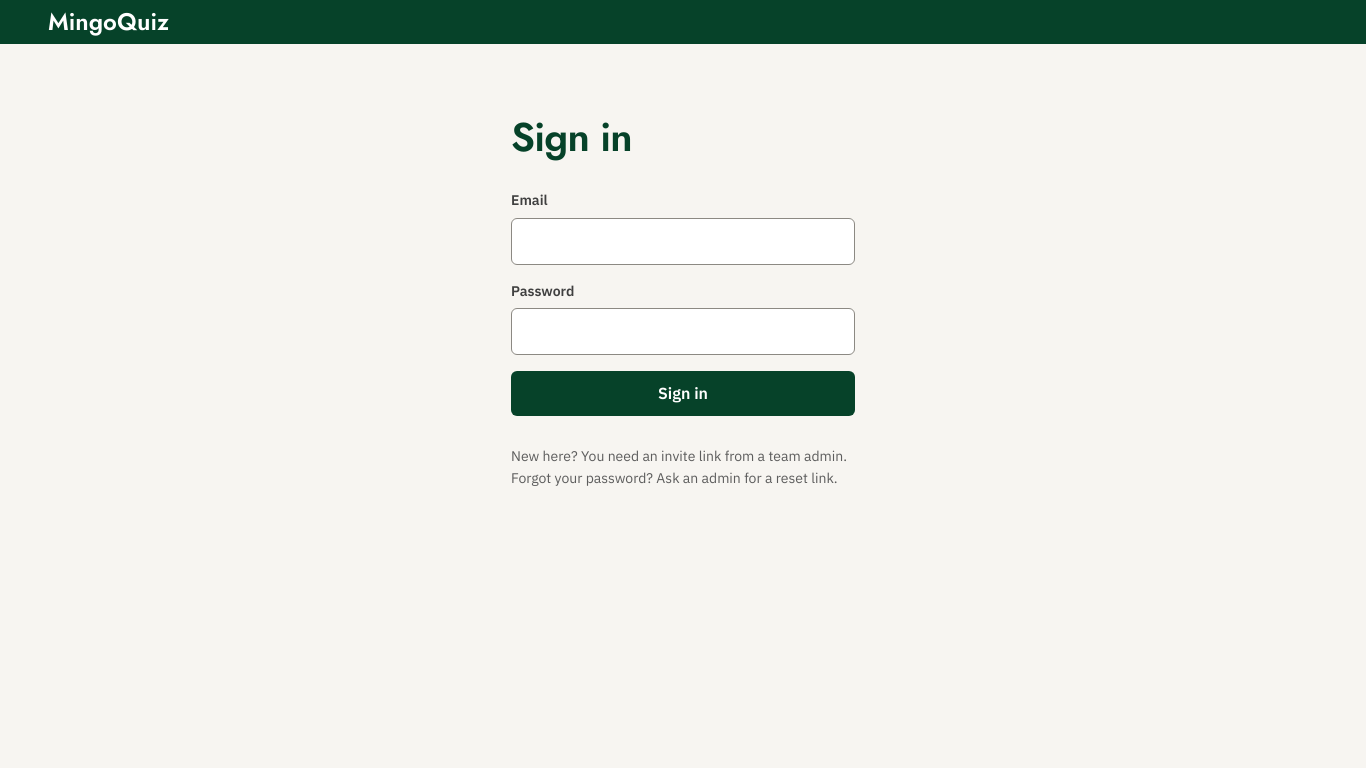
Test case: a browser that refuses the session cookie gets an explanation, not a sign-in loop
In the field labelled "Email": [683, 241] box [511,218,855,265], type "marta@alu.comillas.edu"
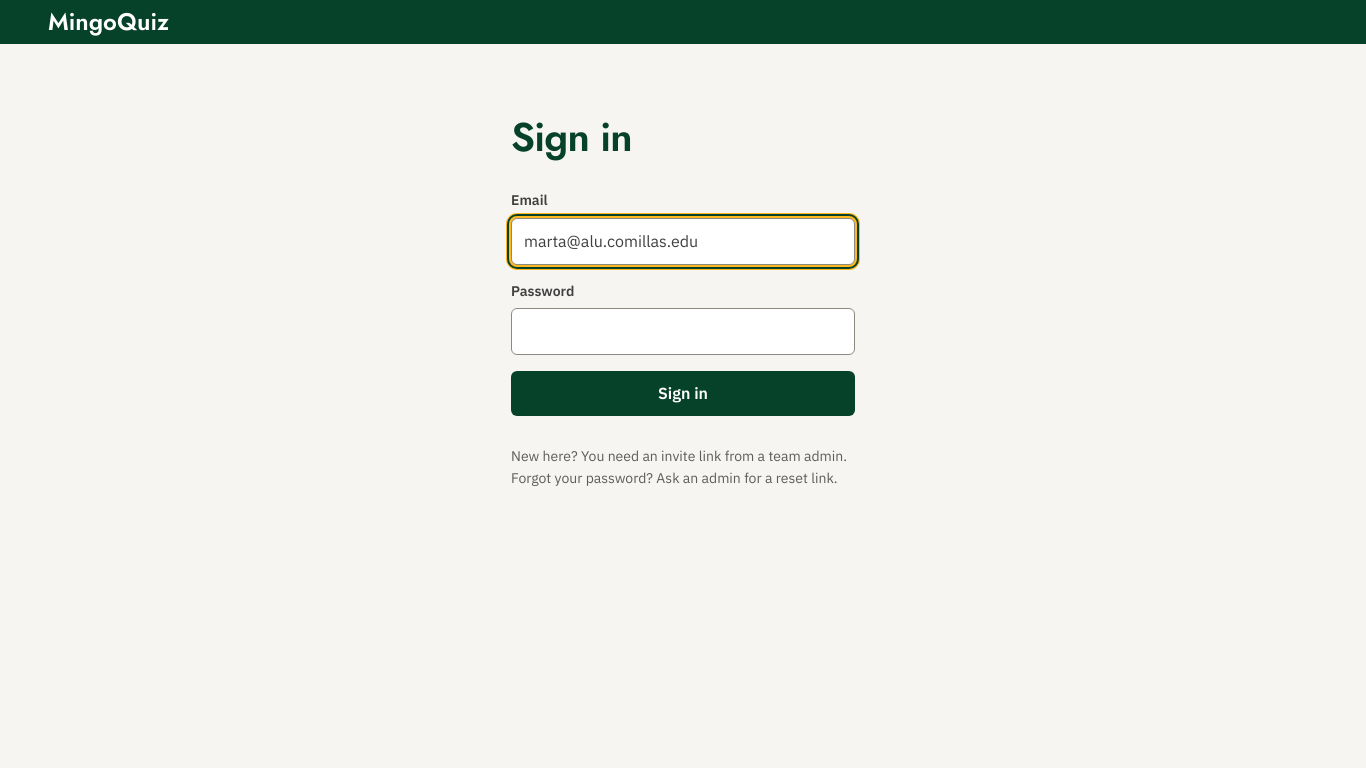
In the password field labelled "Password": [683, 332] box [511,308,855,355], type "tractive system 900V!"
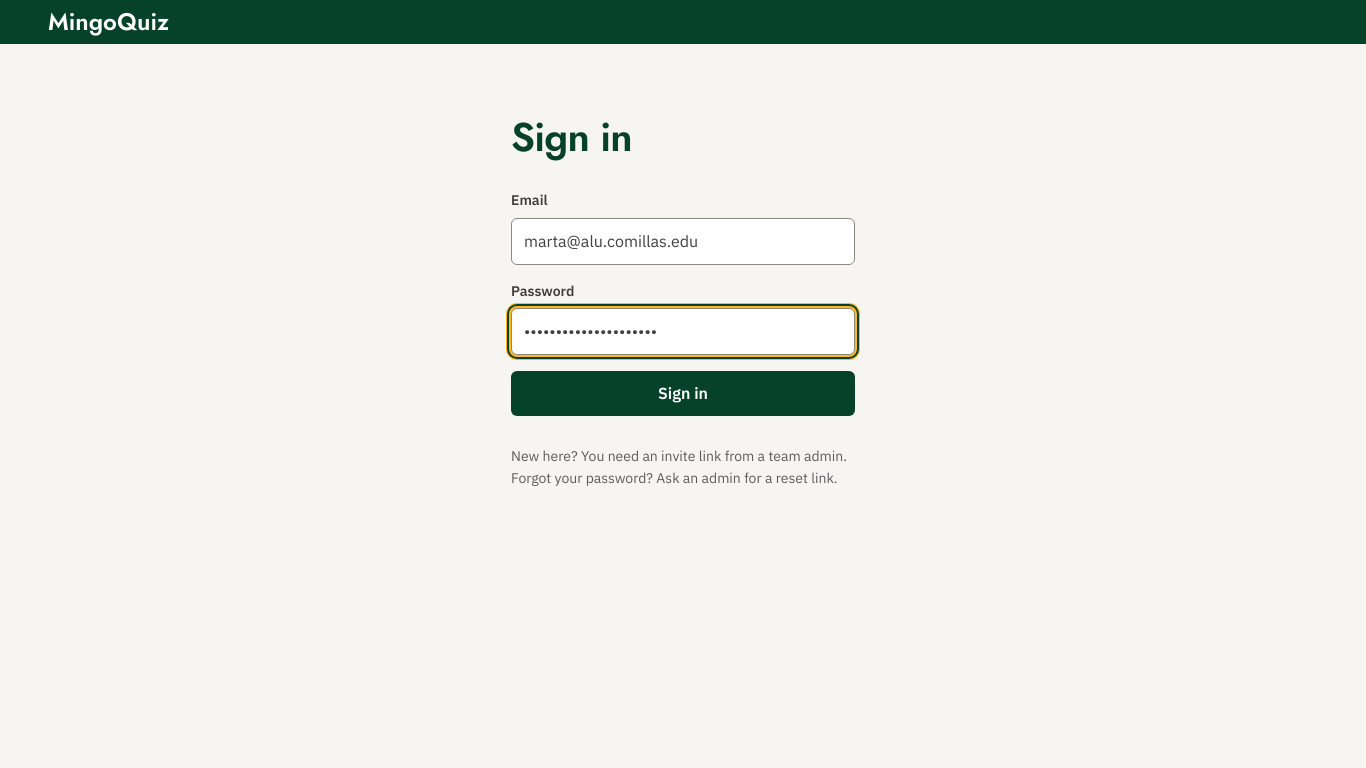
Click the button "Sign in": [683, 394] box [511,371,855,416]
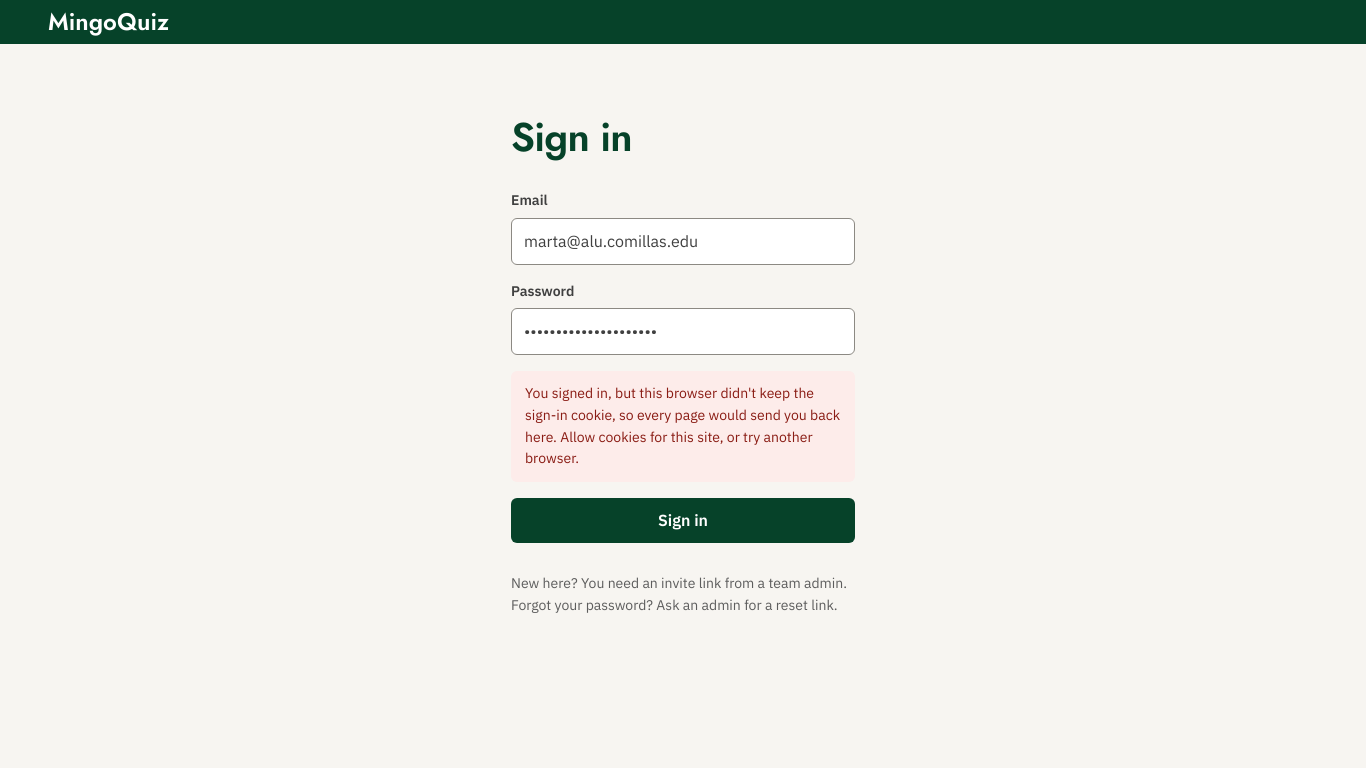
Now the message shows "didn't keep the sign-in cookie", box [525,384,840,467]
